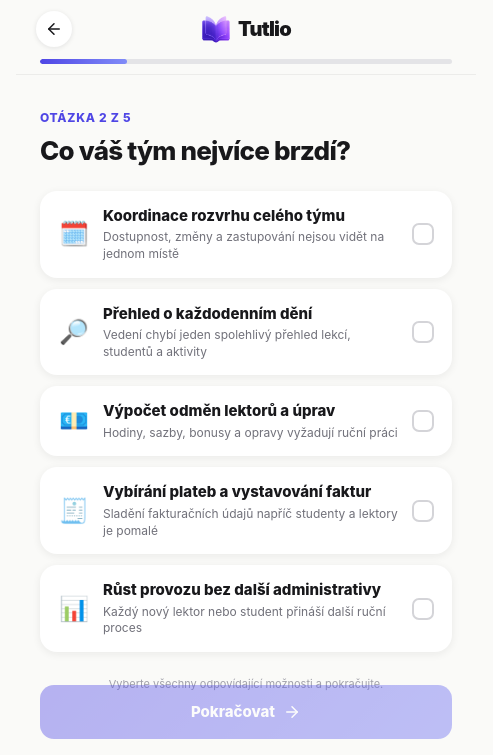
Scenario: Czech quiz interface › retains Czech on the business challenge-to-insight transition
Expected: the button with test id "floating-proceed" is disabled, [40,685,452,739]
Click the checkbox labelled "Koordinace rozvrhu celého týmu": (246, 234) [40,191,452,278]
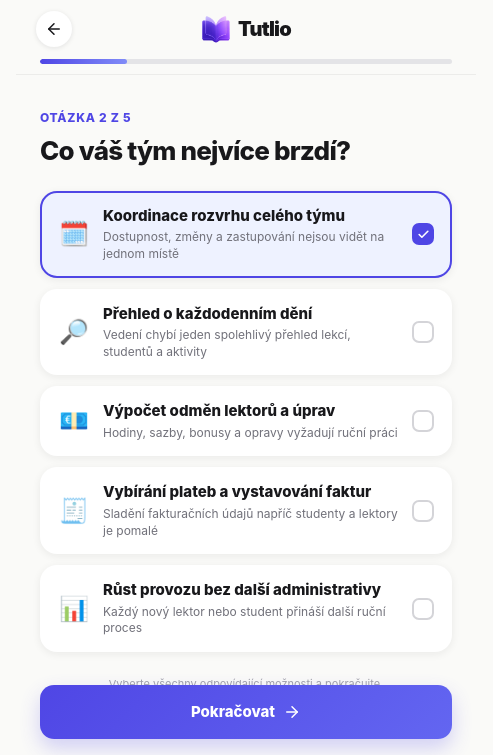
Click the checkbox labelled "Výpočet odměn lektorů a úprav": (246, 421) [40,386,452,456]
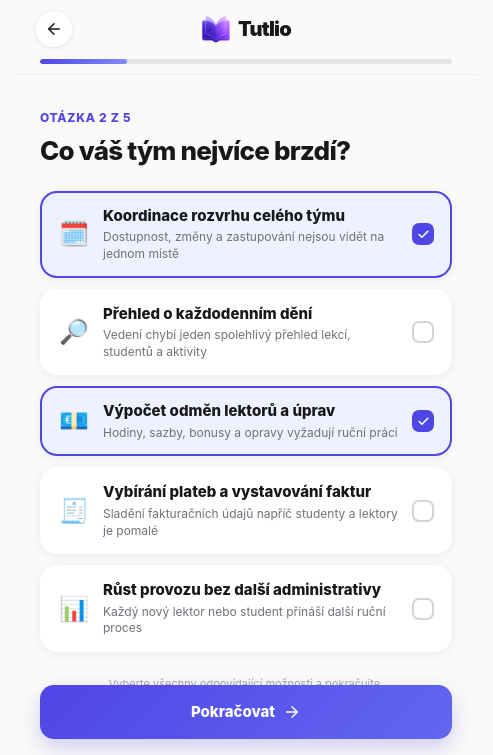
Expected: the button with test id "floating-proceed" is enabled
Click the button with test id "floating-proceed": (246, 712) [40,685,452,739]
Wait 500 ms
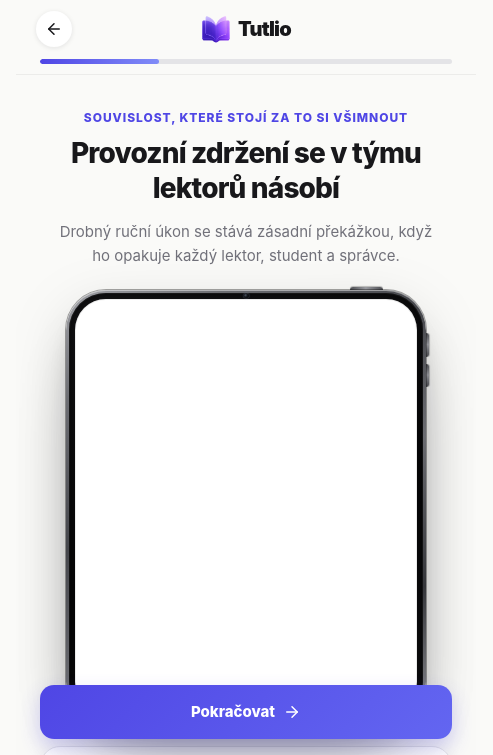
Expected: the heading "Provozní zdržení se v týmu lektorů násobí" is shown, [51,136,441,206]
